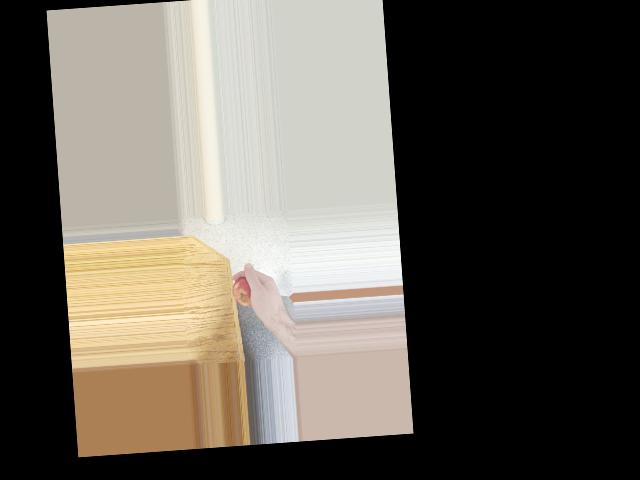apple: (229, 274, 266, 311)
